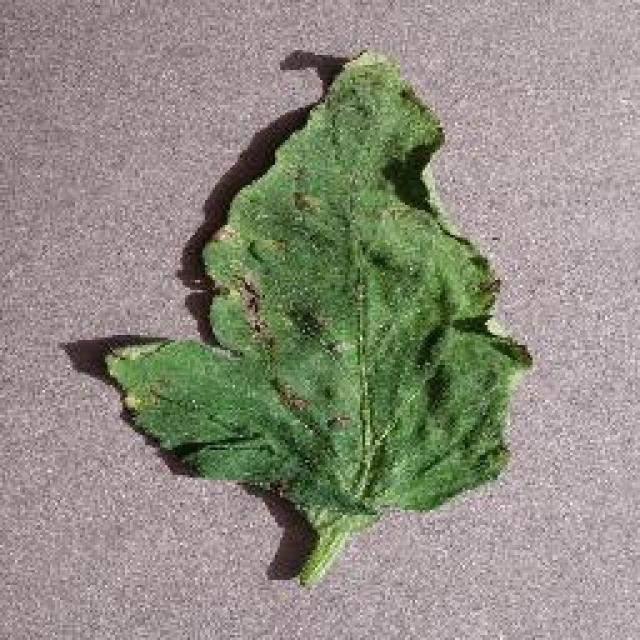Tomato Septoria spot leaf: (105, 55, 537, 525)
